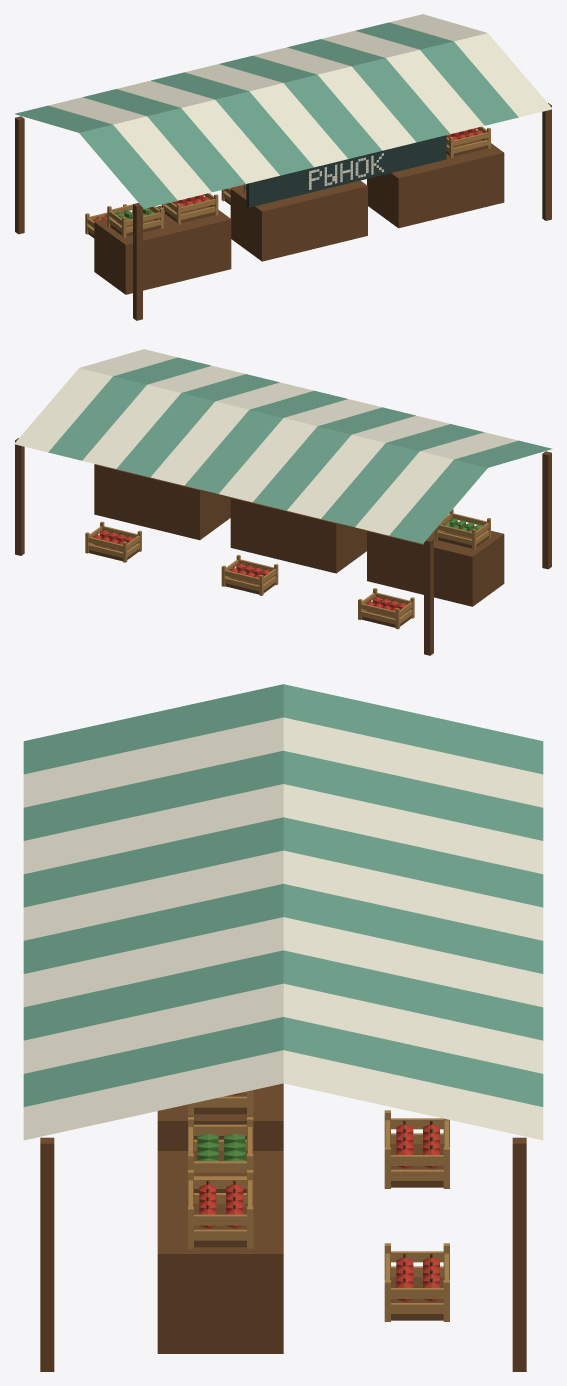
The model's file is FarmersMarket.obj.
The picture shows the model from 3 angles, top to bottom: view 1: azimuth 30°, elevation 25°; view 2: azimuth 150°, elevation 25°; view 3: azimuth 270°, elevation 25°; orthographic projection. The views are drawn at different scales.
Visible parts, largest first — view 1: FarmersMarket; view 2: FarmersMarket; view 3: FarmersMarket.
Boxes of the visible parts, x1,y1,x2,y2 form: FarmersMarket: (14, 14, 552, 320); FarmersMarket: (14, 349, 552, 655); FarmersMarket: (23, 684, 543, 1371).
Bounding box in the file's own units: 12.18 × 4 × 6.6.
